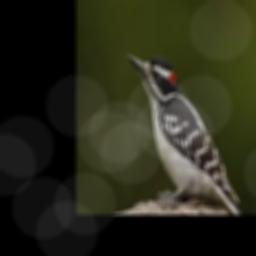Woodpecker: (127, 53, 242, 214)
